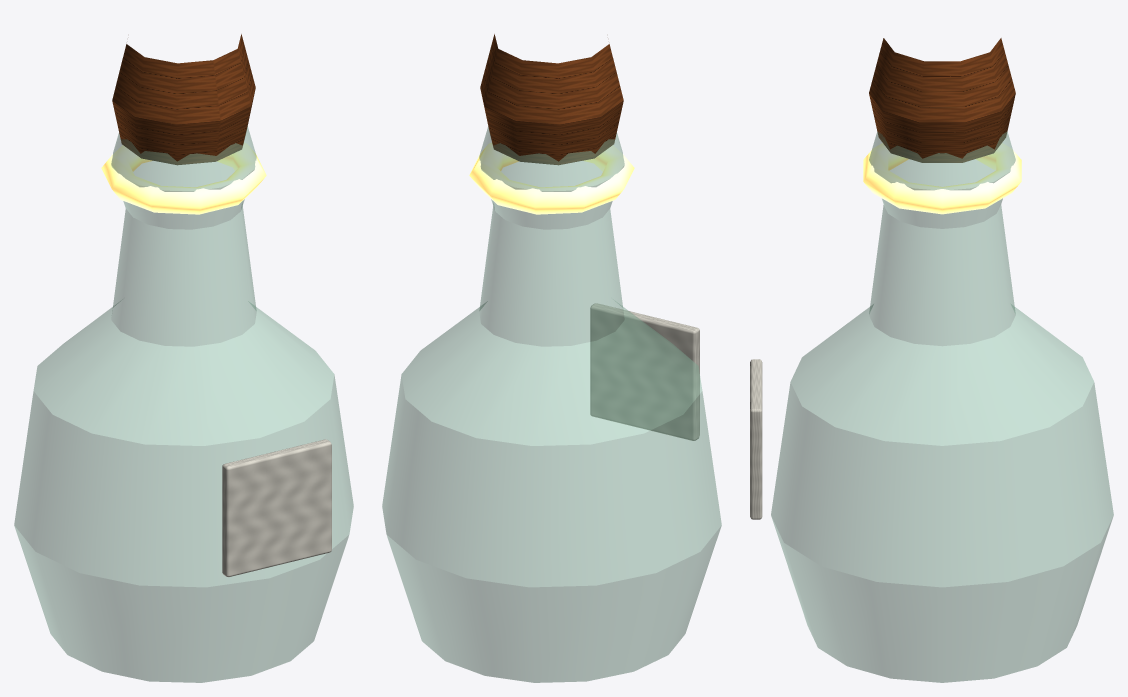
The model's file is witch-cottage-and-apothecary-potion-bottle-round-797f4f6a__32470.glb.
The picture shows the model from 3 angles, left to right: view 1: azimuth 30°, elevation 25°; view 2: azimuth 150°, elevation 25°; view 3: azimuth 270°, elevation 25°; orthographic projection.
Visible parts, largest first — view 1: potion-bottle-round; view 2: potion-bottle-round; view 3: potion-bottle-round.
Boxes of the visible parts, x1,y1,x2,y2 form: potion-bottle-round: (14,34,353,682); potion-bottle-round: (382,34,721,682); potion-bottle-round: (750,38,1113,682).
Bounding box in the file's own units: 0.14 × 0.275 × 0.1485.
Materials: 4 (2 with a texture image).
